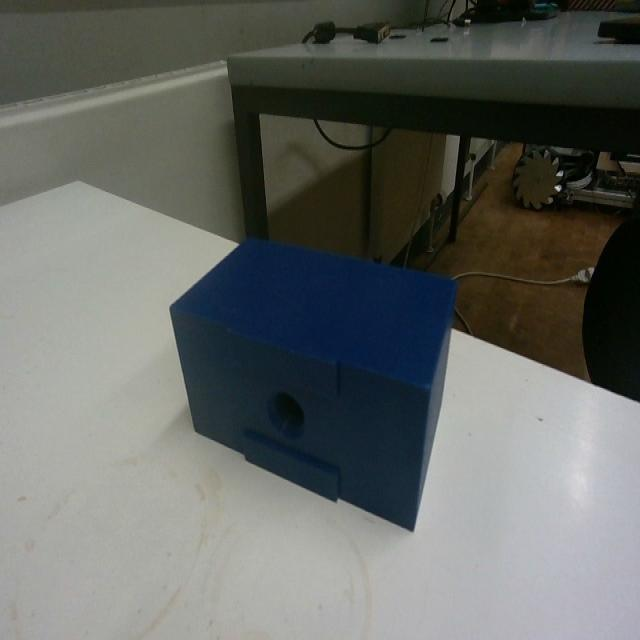Blue Cuboid: (167, 231, 459, 532)
